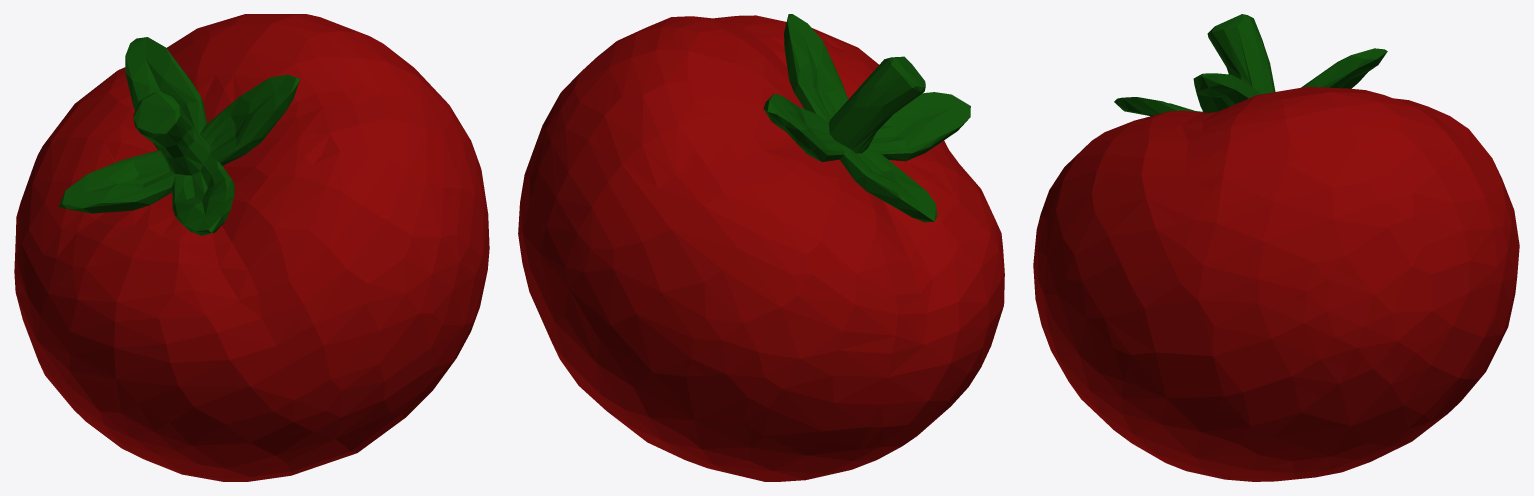
The model's file is Tomato_lowpoly.obj.
3 renders of one model, left to right at view 1: azimuth 30°, elevation 25°; view 2: azimuth 150°, elevation 25°; view 3: azimuth 270°, elevation 25°, orthographic. The views are drawn at different scales.
Visible parts, largest first — view 1: Mesh1.001; view 2: Mesh1.001; view 3: Mesh1.001.
Boxes of the visible parts, x1=… form: Mesh1.001: x1=14, y1=14, x2=489, y2=481; Mesh1.001: x1=518, y1=14, x2=1004, y2=481; Mesh1.001: x1=1033, y1=14, x2=1519, y2=481.
Bounding box in the file's own units: 0.9988 × 0.9376 × 1.03.
